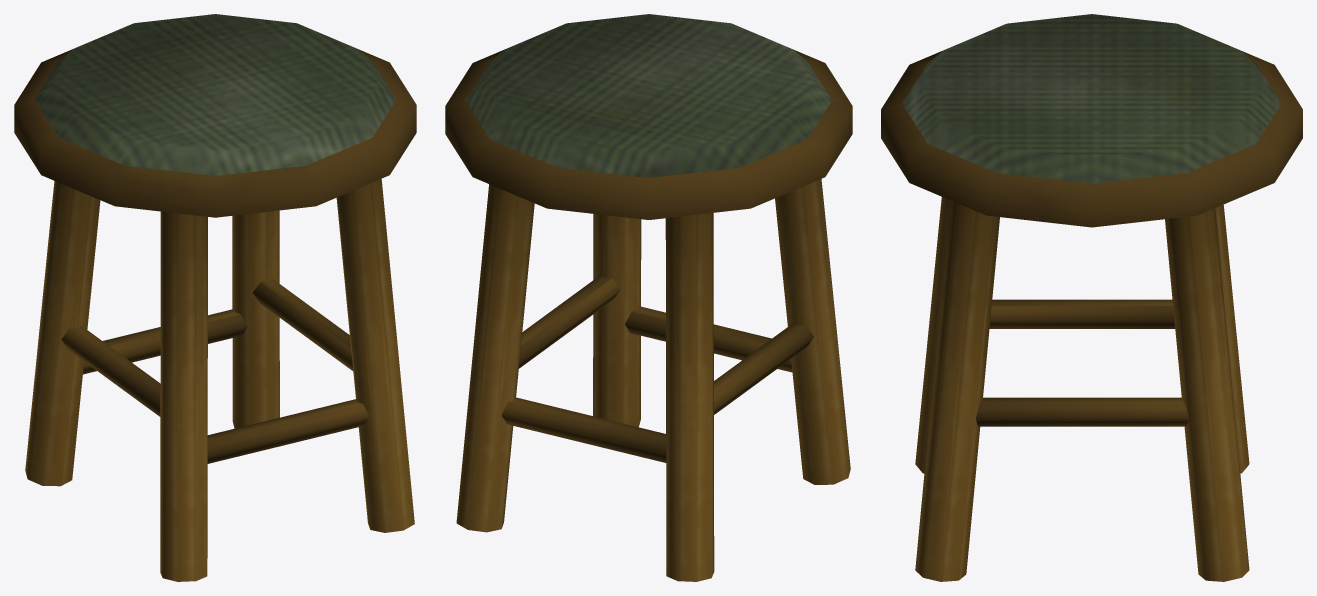
The model's file is stool4.fbx.
The picture shows the model from 3 angles, left to right: view 1: azimuth 30°, elevation 25°; view 2: azimuth 150°, elevation 25°; view 3: azimuth 270°, elevation 25°; orthographic projection. The views are drawn at different scales.
Visible parts, largest first — view 1: polySurface1064; view 2: polySurface1064; view 3: polySurface1064.
Boxes of the visible parts, <box> form: polySurface1064: <box>14,14,416,581</box>; polySurface1064: <box>445,14,852,581</box>; polySurface1064: <box>881,14,1302,581</box>.
Size of the model in its own units: 57.62 by 65.61 by 57.62.
Materials: 1 (1 with a texture image).
